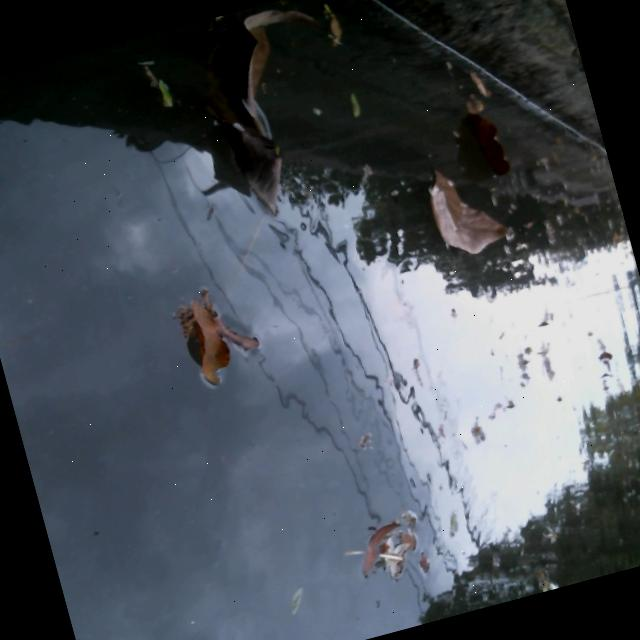Big-leaf: (176, 0, 363, 229), (400, 149, 520, 275), (152, 271, 271, 398), (464, 101, 517, 184)
Small-leaf: (342, 518, 424, 594), (122, 47, 184, 125), (446, 81, 489, 124), (336, 82, 369, 120), (472, 61, 501, 101), (320, 1, 350, 39)
